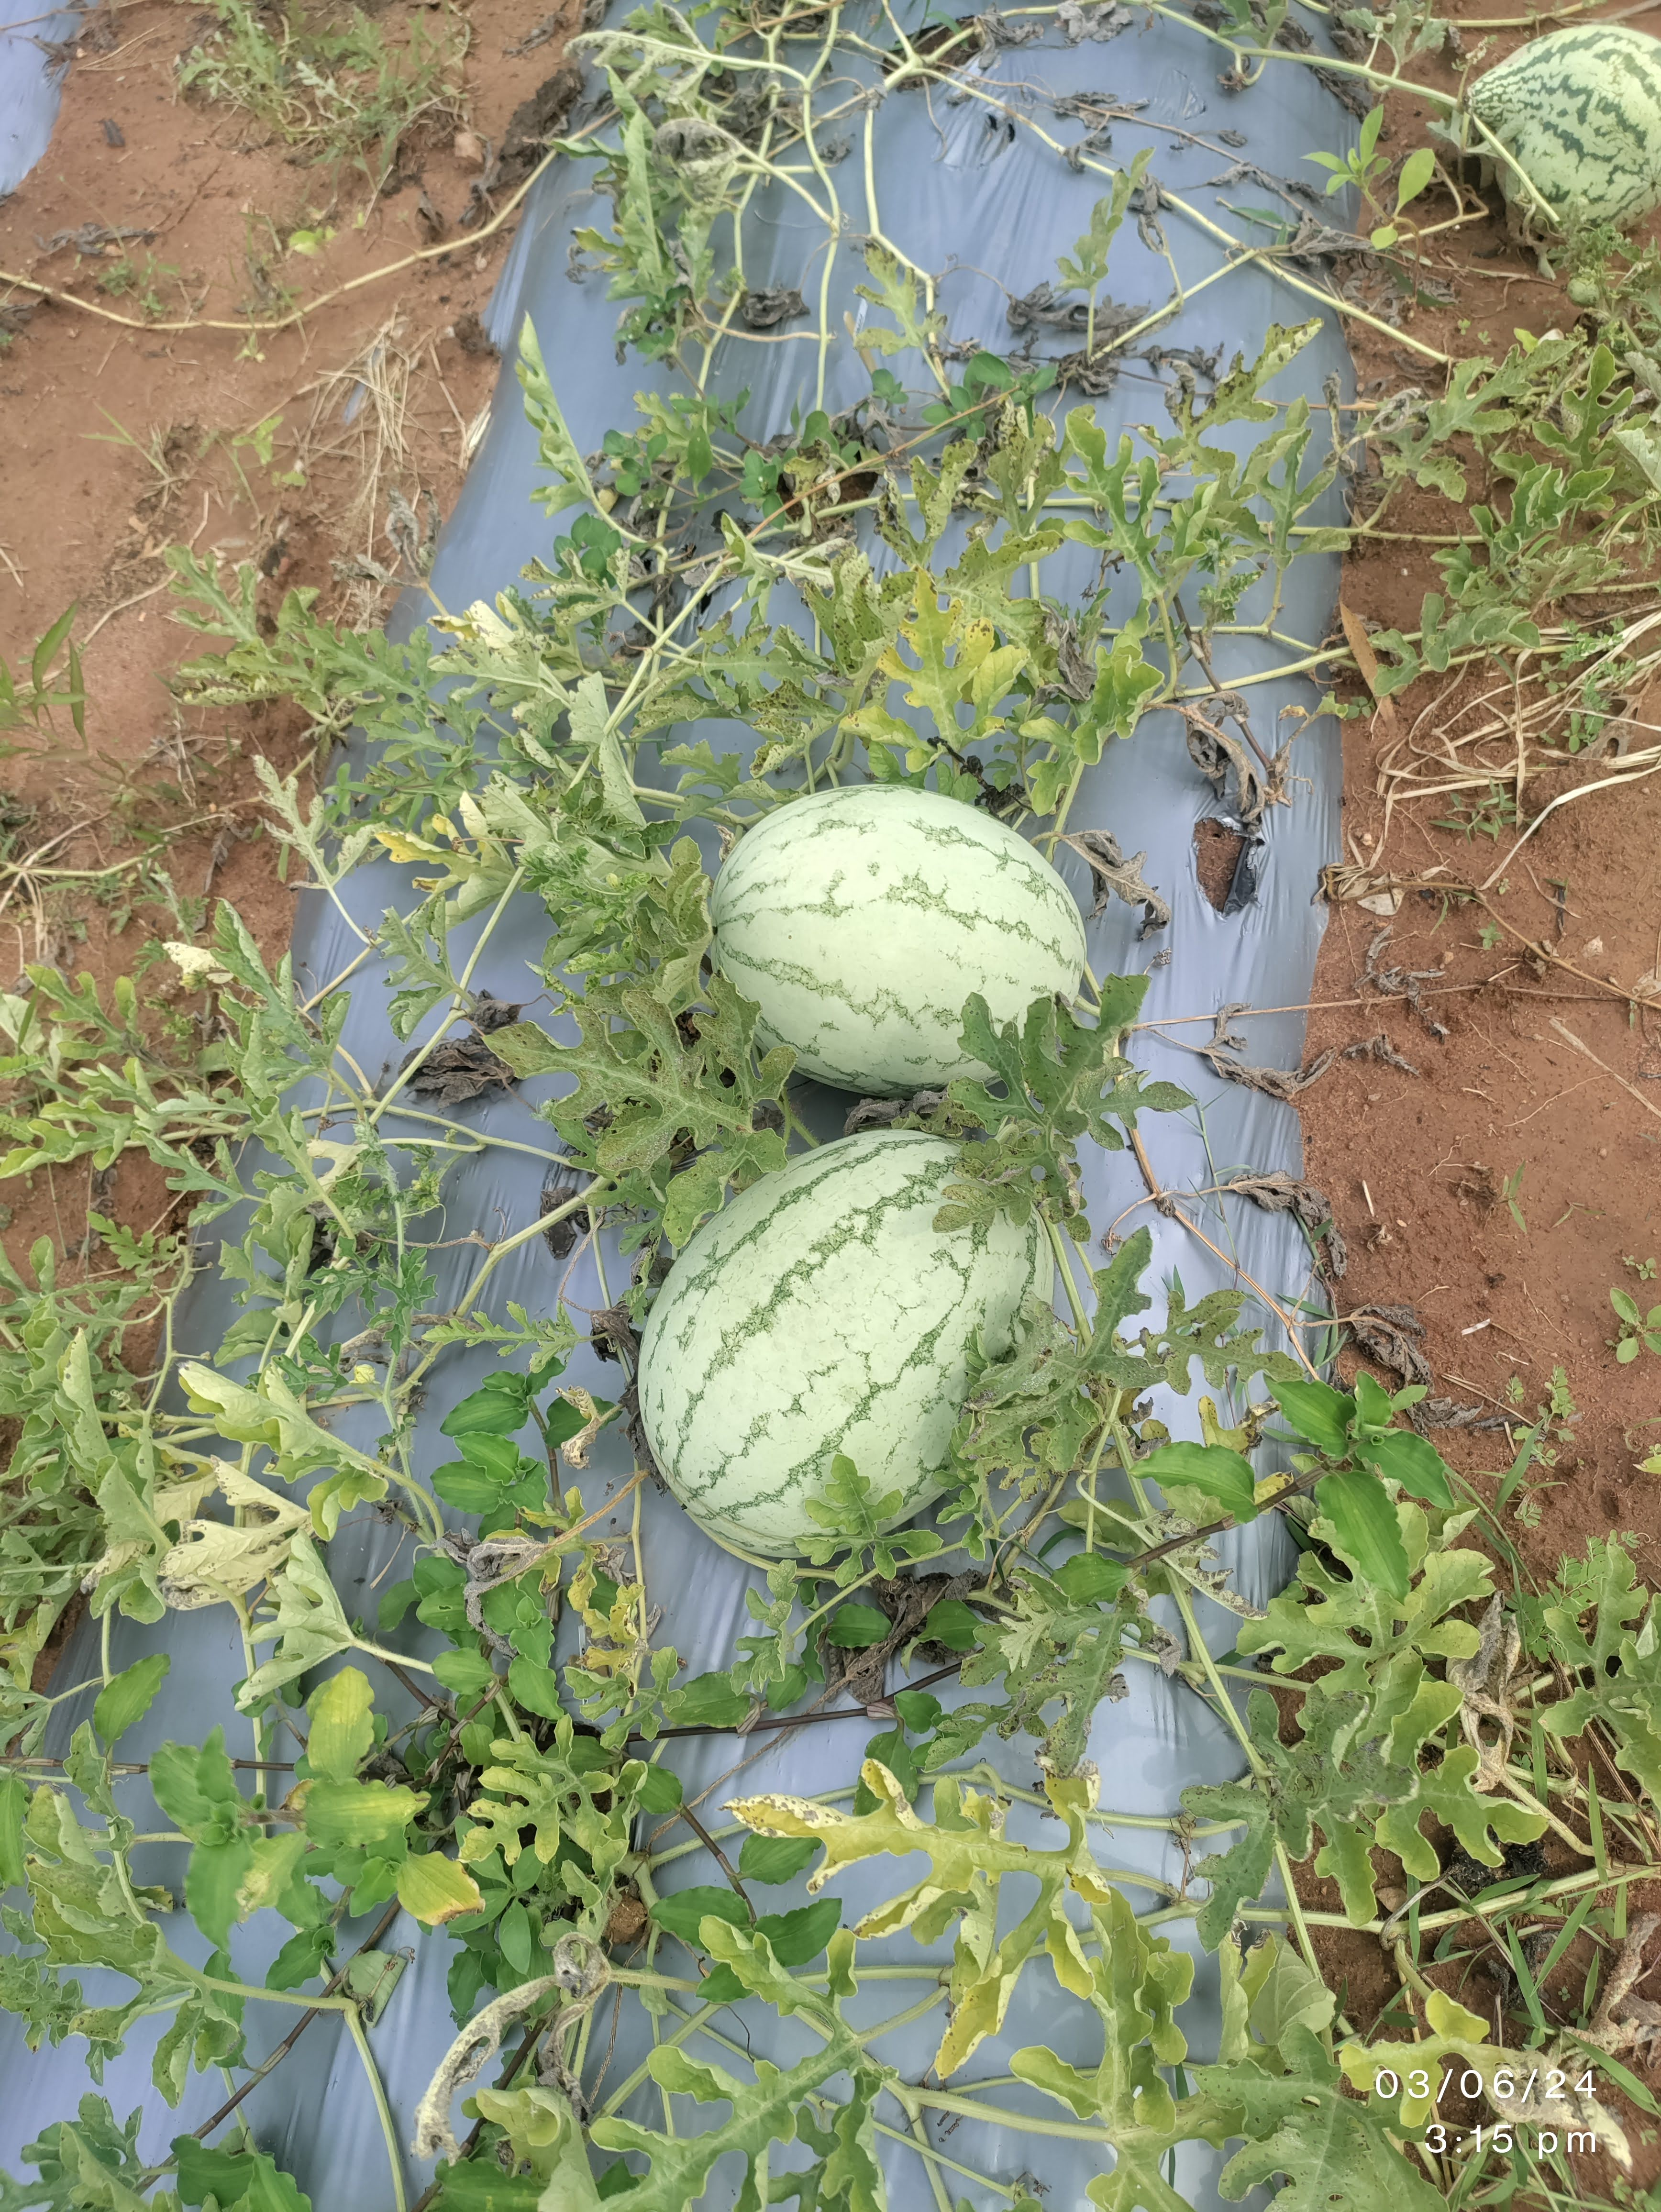good-to-harvest: (612, 1099, 1082, 1596)
not-good-to-harvest: (707, 734, 1172, 1130), (1446, 0, 1661, 255)
